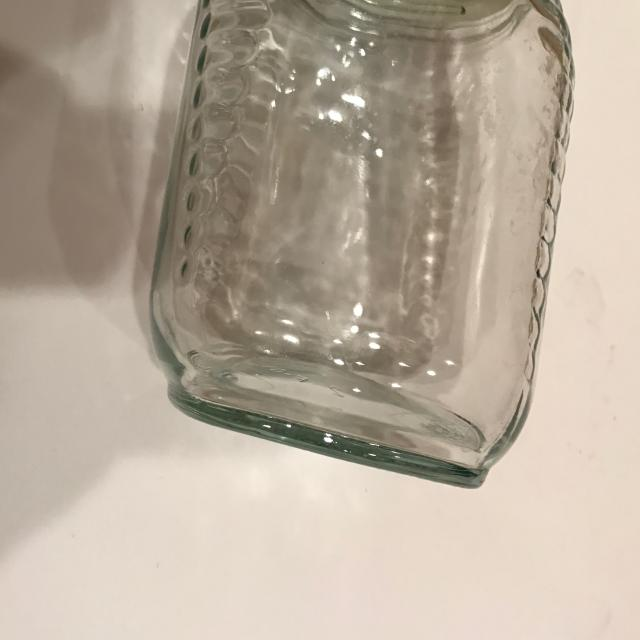glass: (148, 0, 580, 495)
